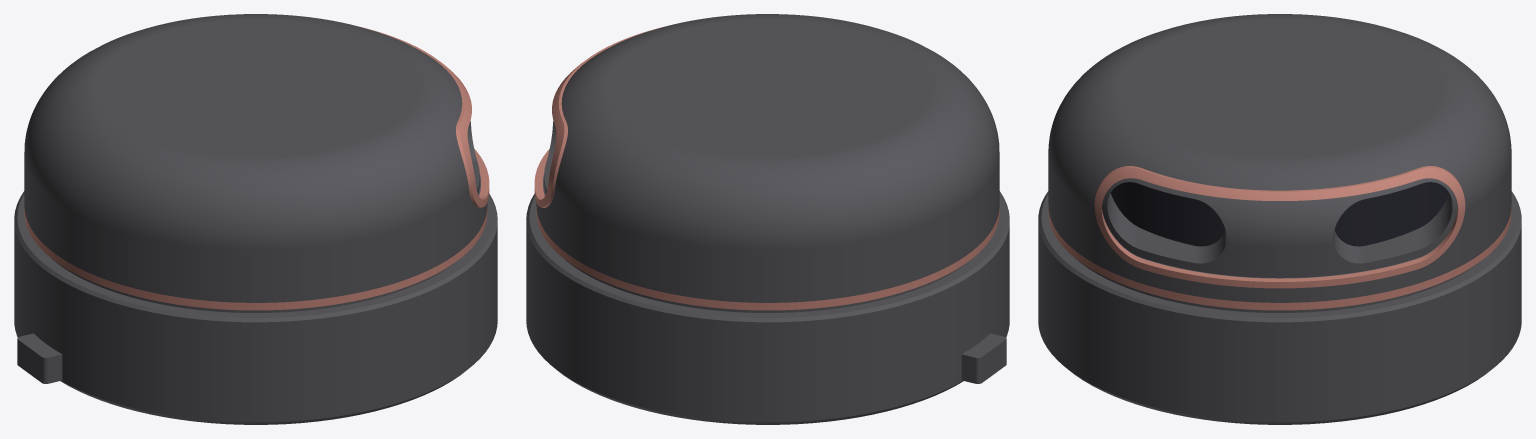
File: rplidar_a2.glb
3 views of the same model, side by side, from view 1: azimuth 30°, elevation 25°; view 2: azimuth 150°, elevation 25°; view 3: azimuth 270°, elevation 25° (orthographic).
Parts seen in each view (by area): view 1: housing, trim; view 2: housing, trim; view 3: housing, trim, windows.
Part boxes in pixels (x1=…): housing: x1=14, y1=14, x2=497, y2=424; trim: x1=24, y1=27, x2=489, y2=310; housing: x1=526, y1=14, x2=1009, y2=424; trim: x1=534, y1=27, x2=999, y2=310; housing: x1=1038, y1=14, x2=1521, y2=424; trim: x1=1048, y1=166, x2=1511, y2=310; windows: x1=1110, y1=182, x2=1449, y2=246.
Size of the model in its own units: 0.0787 by 0.0408 by 0.0757.
